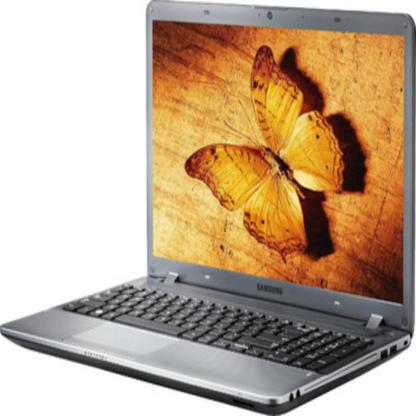board: (0, 39, 416, 416)
